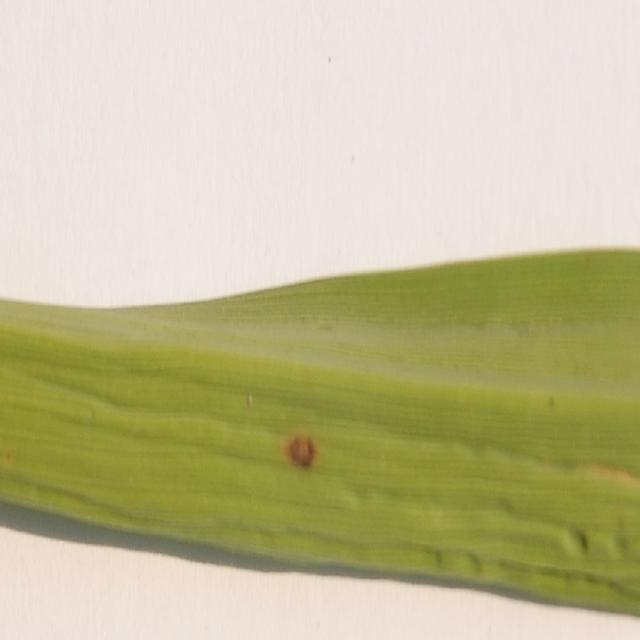brown spot: (276, 410, 331, 489)
